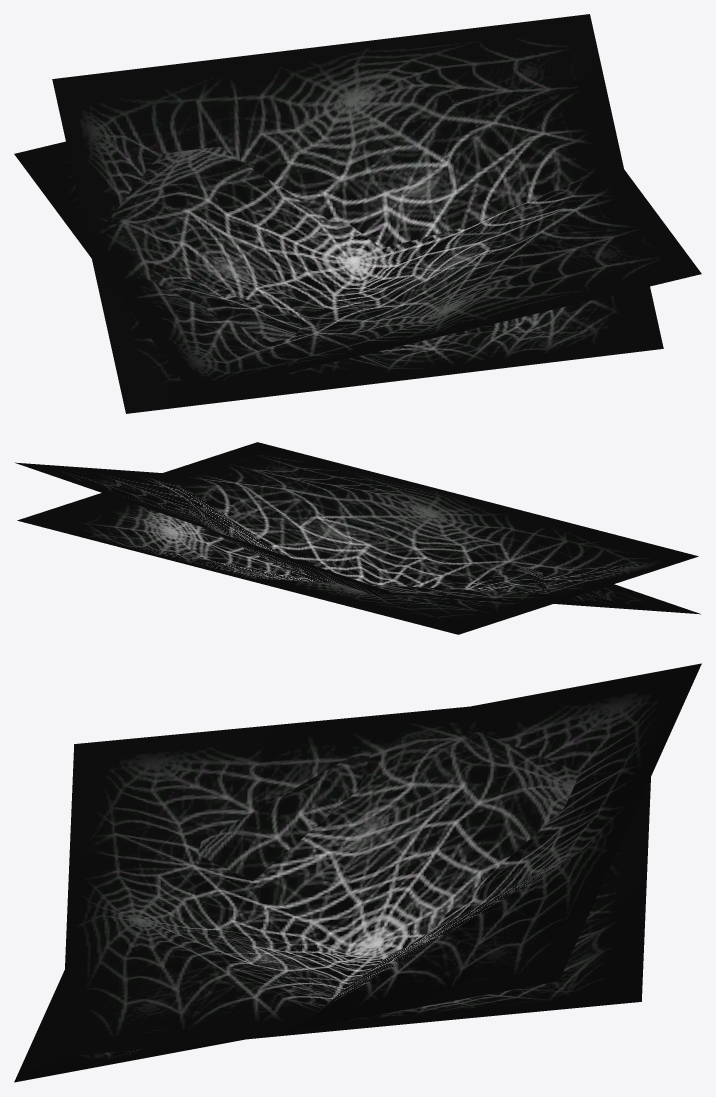
File: DWARF_PALACE_SPIDERWEB21.fbx
3 views of the same model, one above another, from view 1: azimuth 30°, elevation 25°; view 2: azimuth 150°, elevation 25°; view 3: azimuth 270°, elevation 25° (orthographic). The views are drawn at different scales.
Parts seen in each view (by area): view 1: DWARF_PALACE_SPIDERWEB21; view 2: DWARF_PALACE_SPIDERWEB21; view 3: DWARF_PALACE_SPIDERWEB21.
Part boxes in pixels (box(x1,y1,x2,y2)): DWARF_PALACE_SPIDERWEB21: box(14, 14, 701, 413); DWARF_PALACE_SPIDERWEB21: box(15, 442, 700, 634); DWARF_PALACE_SPIDERWEB21: box(14, 663, 701, 1082).
Size of the model in its own units: 89868 by 21864 by 67119.
Materials: 1 (1 with a texture image).
